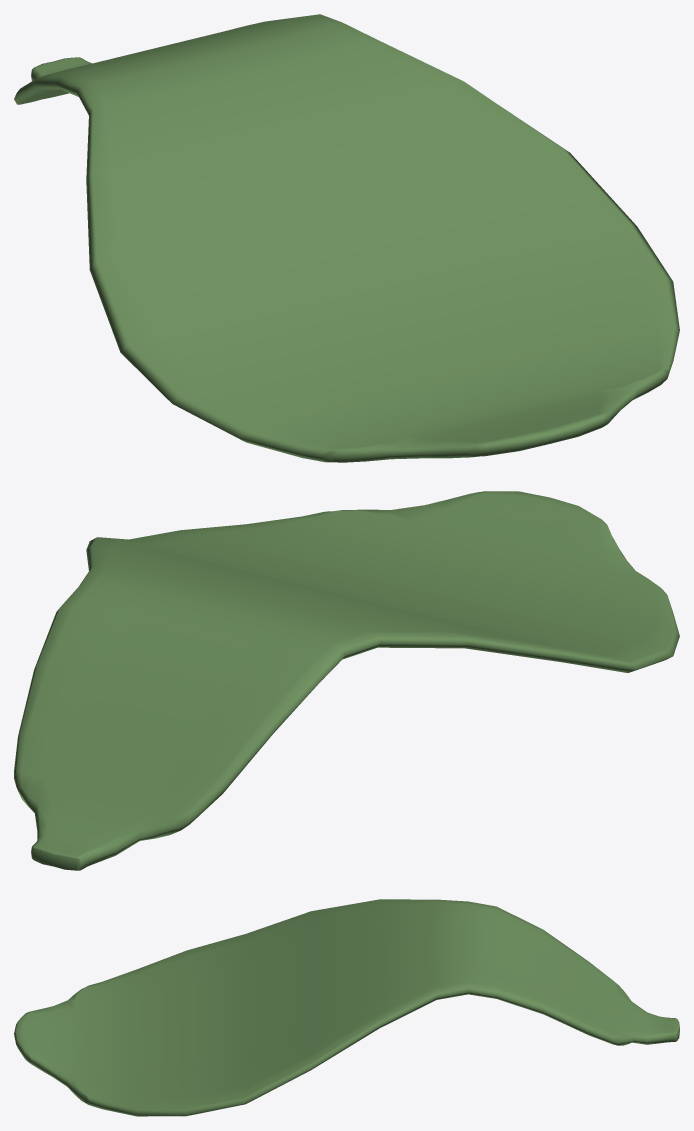
File: LettuceLeafMeshTest.fbx
3 views of the same model, one above another, from view 1: azimuth 30°, elevation 25°; view 2: azimuth 150°, elevation 25°; view 3: azimuth 270°, elevation 25° (orthographic). The views are drawn at different scales.
Visible parts, largest first — view 1: LettuceMeshBCKUP3; view 2: LettuceMeshBCKUP3; view 3: LettuceMeshBCKUP3.
Boxes of the visible parts, x1,y1,x2,y2 form: LettuceMeshBCKUP3: (14, 14, 679, 462); LettuceMeshBCKUP3: (14, 491, 679, 870); LettuceMeshBCKUP3: (14, 899, 679, 1116).
Bounding box in the file's own units: 799 × 237 × 1336.
